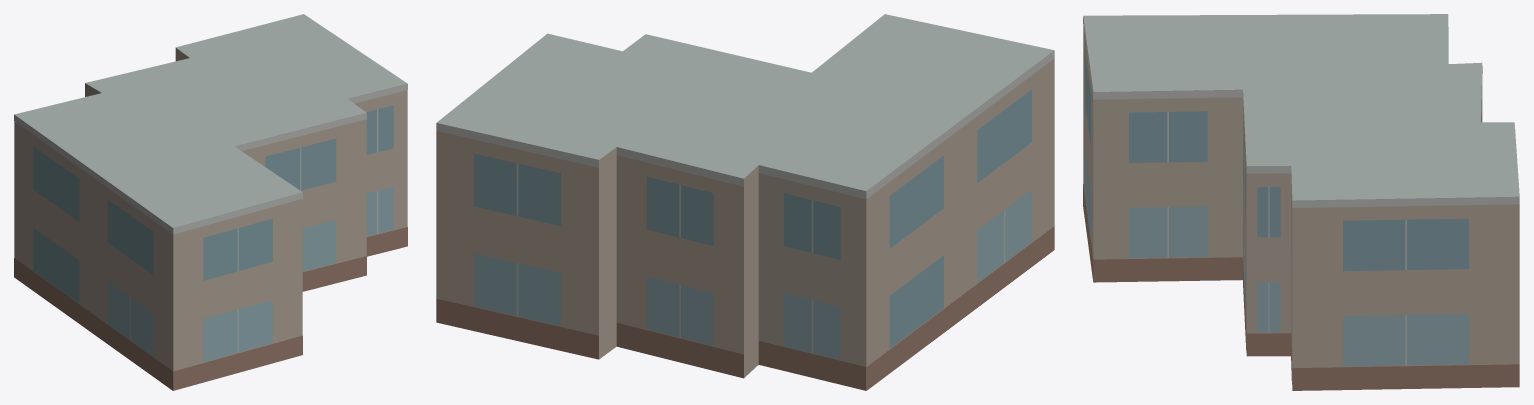
Rendered from survey-upis-32734835.glb.
The picture shows the model from 3 angles, left to right: view 1: azimuth 30°, elevation 25°; view 2: azimuth 150°, elevation 25°; view 3: azimuth 270°, elevation 25°; orthographic projection. The views are drawn at different scales.
Parts seen in each view (by area): view 1: survey-upis-32734835.tmp; view 2: survey-upis-32734835.tmp; view 3: survey-upis-32734835.tmp.
Part boxes in pixels (x1,y1,x2,y2): survey-upis-32734835.tmp: [14, 14, 407, 390]; survey-upis-32734835.tmp: [436, 14, 1054, 390]; survey-upis-32734835.tmp: [1083, 14, 1519, 390].
Bounding box in the file's own units: 12.83 × 6.1 × 12.69.
